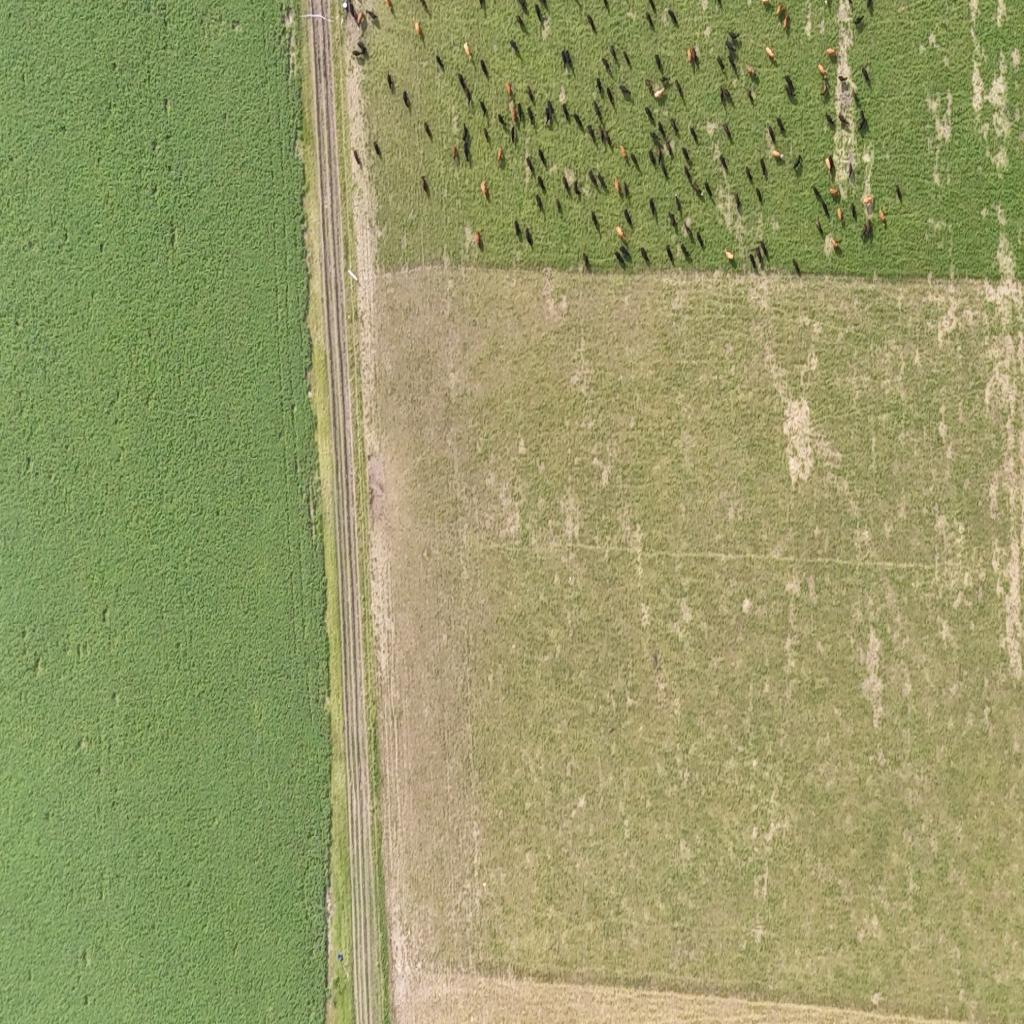cow: (462, 41, 474, 62), (365, 6, 380, 22), (766, 44, 778, 64), (744, 63, 760, 78), (509, 38, 522, 56), (692, 178, 704, 197), (581, 250, 592, 270), (590, 210, 601, 230), (462, 140, 471, 164), (597, 172, 609, 190), (655, 147, 667, 165), (858, 108, 867, 132), (480, 57, 490, 78), (859, 222, 870, 241), (692, 45, 700, 71), (721, 86, 734, 102), (724, 121, 734, 141), (481, 180, 491, 200), (818, 62, 829, 80), (616, 225, 627, 243), (654, 84, 667, 99), (829, 235, 841, 251), (457, 71, 467, 90), (534, 3, 544, 22), (717, 53, 726, 74), (353, 146, 362, 167), (461, 121, 470, 141), (620, 82, 632, 97), (654, 51, 664, 69), (704, 180, 714, 198), (525, 223, 533, 245), (623, 210, 634, 226), (775, 115, 786, 131), (680, 244, 691, 260), (479, 96, 488, 115), (669, 8, 678, 27), (661, 161, 670, 180), (682, 164, 692, 181), (644, 106, 656, 120), (414, 19, 423, 37), (475, 231, 484, 249), (589, 169, 598, 187), (562, 175, 571, 193), (675, 194, 684, 212), (754, 186, 763, 204), (792, 256, 801, 274), (452, 144, 460, 164), (535, 193, 543, 213), (435, 54, 445, 70), (525, 156, 535, 172), (596, 76, 604, 96), (527, 104, 535, 124), (724, 246, 734, 262), (860, 67, 870, 83), (812, 182, 822, 198), (356, 40, 369, 52), (772, 148, 785, 160), (838, 114, 851, 126), (726, 39, 737, 53), (720, 153, 729, 170), (514, 218, 522, 237), (566, 47, 574, 66), (649, 196, 657, 215), (388, 1, 398, 16), (630, 152, 640, 167), (562, 49, 569, 70), (422, 175, 430, 193), (356, 10, 364, 28), (349, 1, 357, 19), (562, 103, 570, 121), (675, 80, 684, 96), (665, 244, 674, 260), (728, 54, 736, 72), (746, 166, 754, 184), (755, 246, 764, 262), (850, 200, 858, 218), (645, 78, 654, 94), (819, 80, 828, 96), (686, 48, 694, 66), (614, 174, 620, 198), (374, 138, 381, 158), (622, 180, 629, 200), (604, 132, 614, 146), (586, 124, 596, 138), (680, 146, 690, 160), (774, 3, 784, 17), (862, 195, 872, 209), (538, 147, 546, 164), (544, 108, 552, 125), (623, 49, 631, 66), (646, 10, 654, 27), (690, 127, 699, 142), (668, 210, 677, 225), (539, 174, 546, 193), (828, 151, 835, 170), (465, 86, 471, 108), (853, 15, 864, 27), (719, 93, 729, 106), (837, 73, 850, 83), (851, 89, 861, 102), (424, 120, 432, 136), (387, 74, 395, 90), (588, 13, 596, 29), (610, 43, 618, 59), (794, 154, 802, 170), (648, 148, 656, 164), (760, 240, 768, 256), (824, 155, 832, 171), (747, 88, 755, 104), (620, 144, 628, 160), (403, 90, 410, 108), (602, 56, 611, 70), (621, 244, 630, 258), (825, 112, 834, 126), (835, 206, 844, 220), (879, 207, 886, 225), (517, 0, 528, 11), (352, 48, 364, 58), (482, 126, 490, 141), (515, 14, 525, 26), (641, 246, 649, 261), (614, 250, 624, 262), (650, 130, 660, 142), (729, 29, 741, 39), (749, 254, 757, 269), (828, 188, 840, 198), (574, 113, 583, 126), (506, 81, 514, 95), (606, 88, 614, 102), (696, 230, 703, 246), (658, 120, 666, 134), (769, 126, 776, 142), (848, 163, 855, 179), (760, 158, 767, 174), (420, 0, 429, 12), (498, 114, 507, 126), (510, 124, 516, 142), (647, 0, 656, 12), (783, 14, 789, 32), (896, 182, 902, 200), (497, 144, 502, 165), (786, 73, 794, 86), (672, 116, 678, 133), (686, 221, 692, 238), (734, 191, 740, 208), (518, 101, 523, 121), (660, 74, 670, 84), (596, 109, 605, 120), (761, 0, 772, 9), (815, 220, 822, 234), (784, 85, 792, 97), (666, 140, 672, 156), (600, 128, 606, 144), (526, 84, 533, 97), (555, 197, 561, 212), (509, 107, 515, 122), (548, 101, 555, 113), (601, 0, 609, 10), (828, 46, 836, 56), (822, 200, 828, 213), (478, 0, 485, 11), (575, 178, 579, 196), (540, 0, 548, 8), (865, 1, 874, 8)
